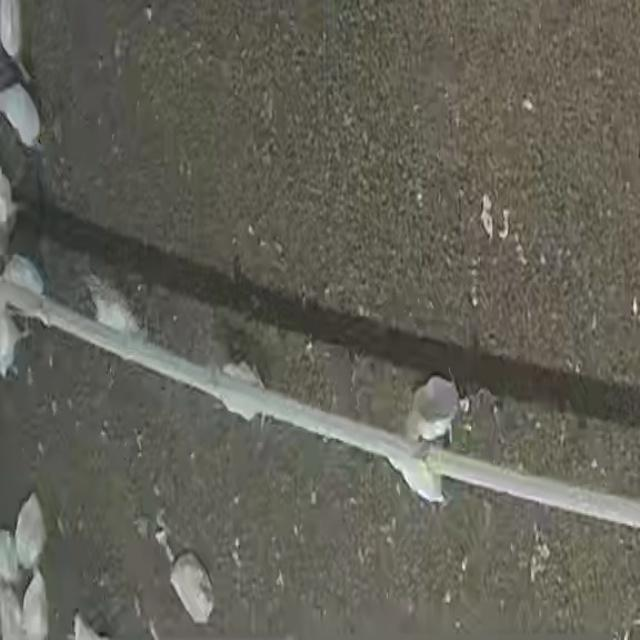chicken: (385, 424, 443, 506), (87, 282, 145, 364), (402, 372, 457, 446), (167, 548, 216, 624), (1, 252, 46, 326), (0, 80, 45, 147), (221, 361, 266, 423), (13, 491, 49, 568), (21, 566, 48, 638)
